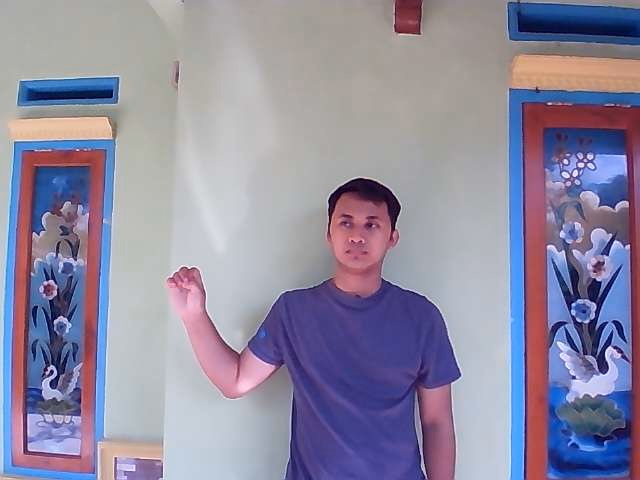E: (161, 262, 227, 346)
